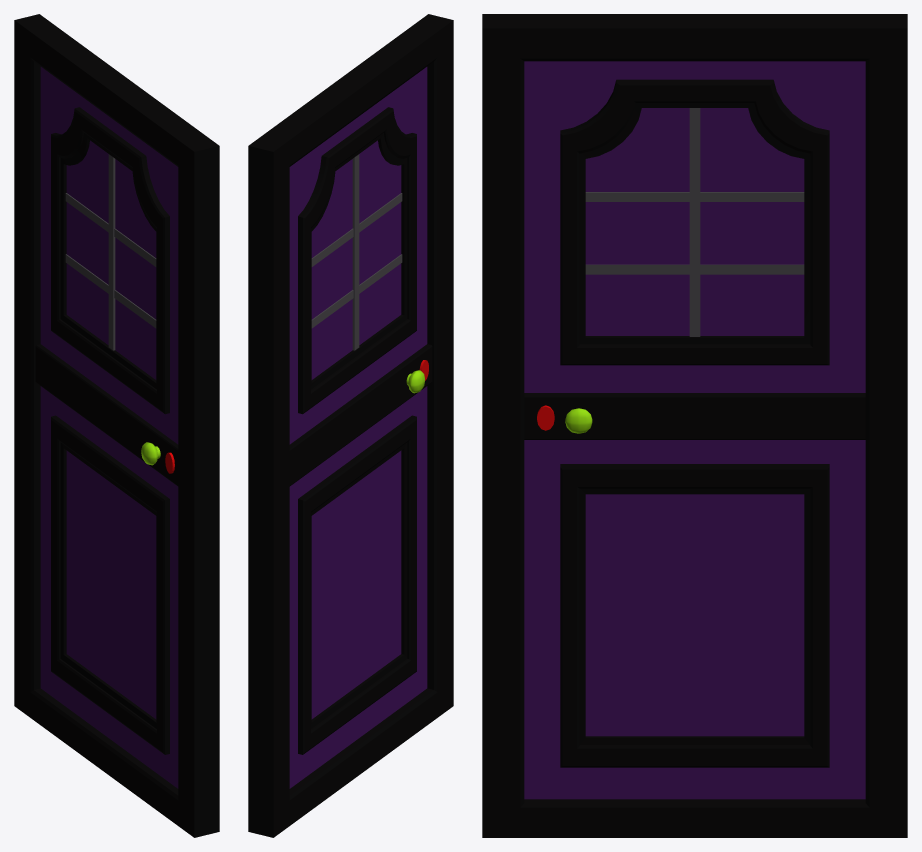
Rendered from staticMesh_Door.fbx.
3 views of the same model, side by side, from view 1: azimuth 30°, elevation 25°; view 2: azimuth 150°, elevation 25°; view 3: azimuth 270°, elevation 25° (orthographic). The views are drawn at different scales.
Parts seen in each view (by area): view 1: pCube29; view 2: pCube29; view 3: pCube29.
Part boxes in pixels (x1,y1,x2,y2): pCube29: (14, 14, 219, 837); pCube29: (248, 14, 453, 837); pCube29: (482, 14, 907, 837).
Size of the model in its own units: 17.34 by 254 by 121.
